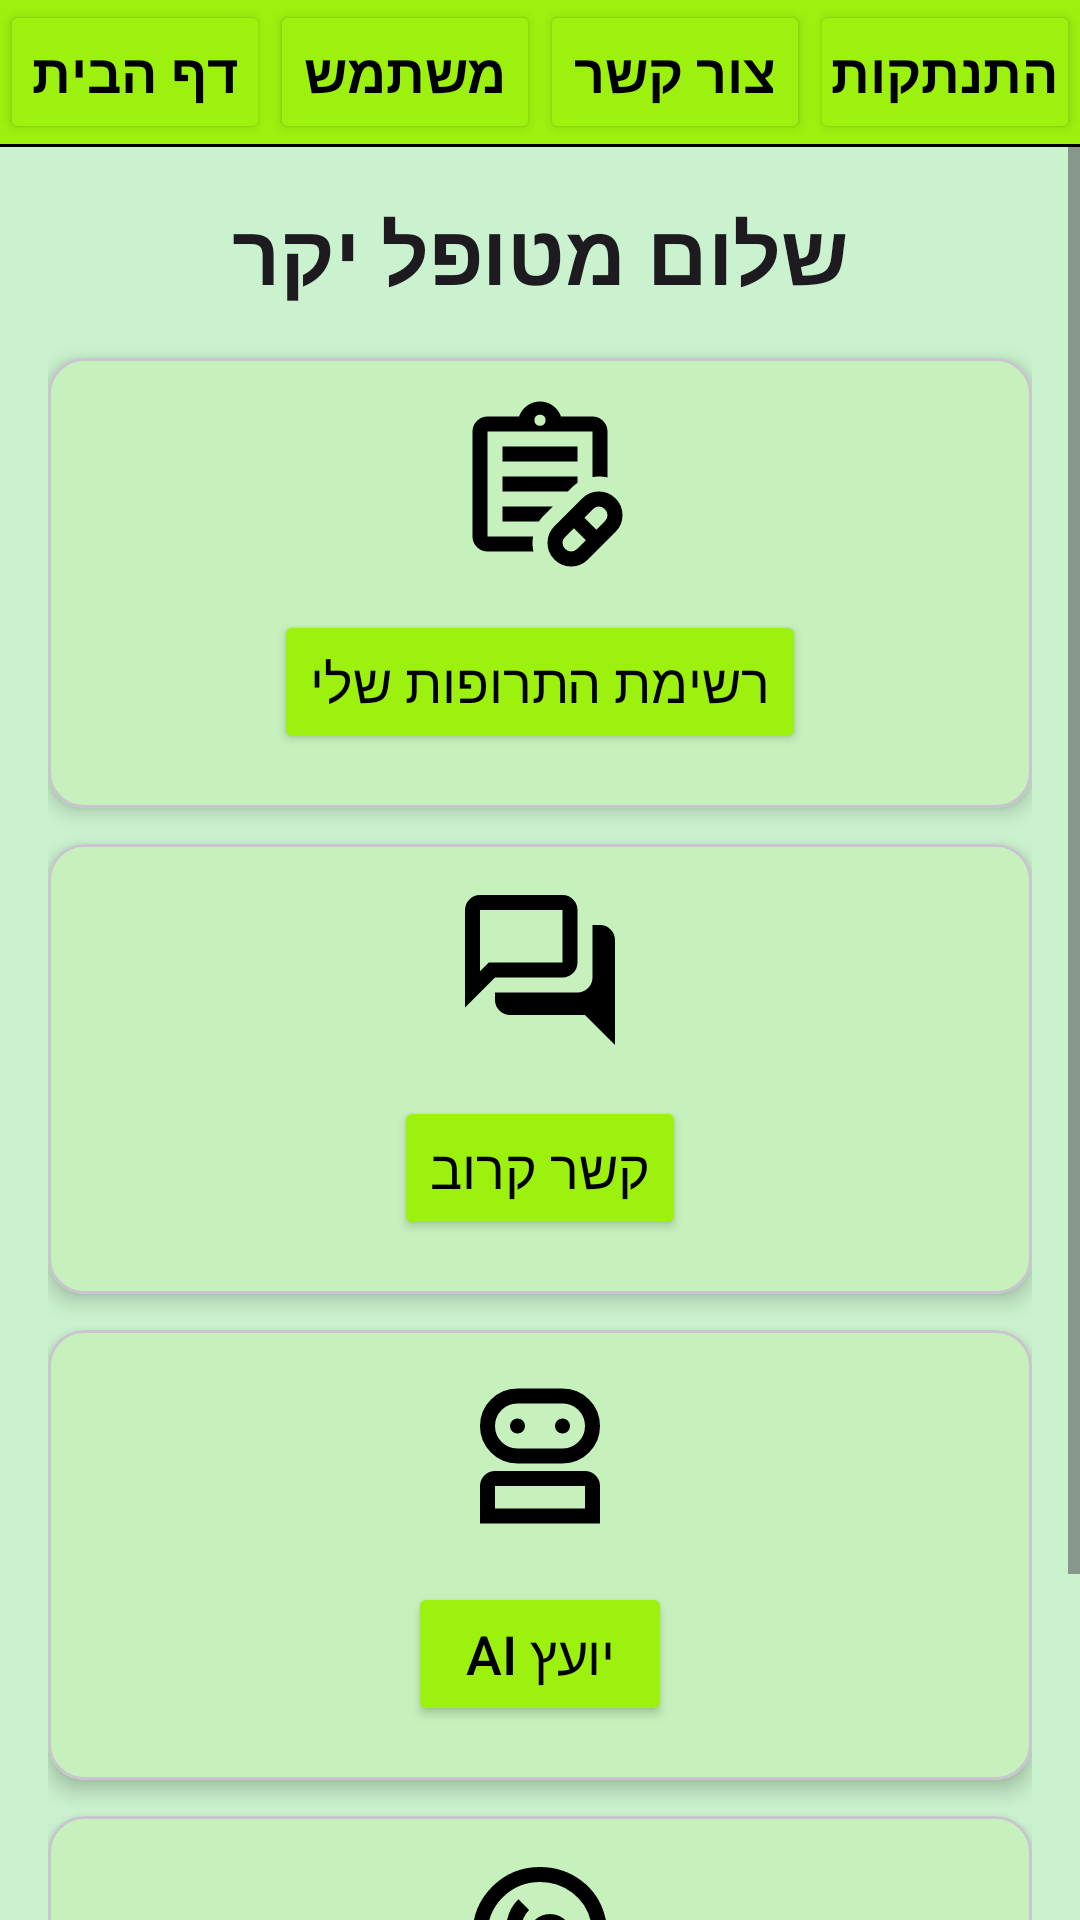

Named icons in this screenshot (1080 × 1920) and their bounding boxes, {"x1": x1, "y1": y1, "x2": x2, "y2": y2}:
ai assistant: {"x1": 480, "y1": 1388, "x2": 600, "y2": 1524}
forum: {"x1": 465, "y1": 895, "x2": 615, "y2": 1045}
medication: {"x1": 472, "y1": 401, "x2": 623, "y2": 567}
